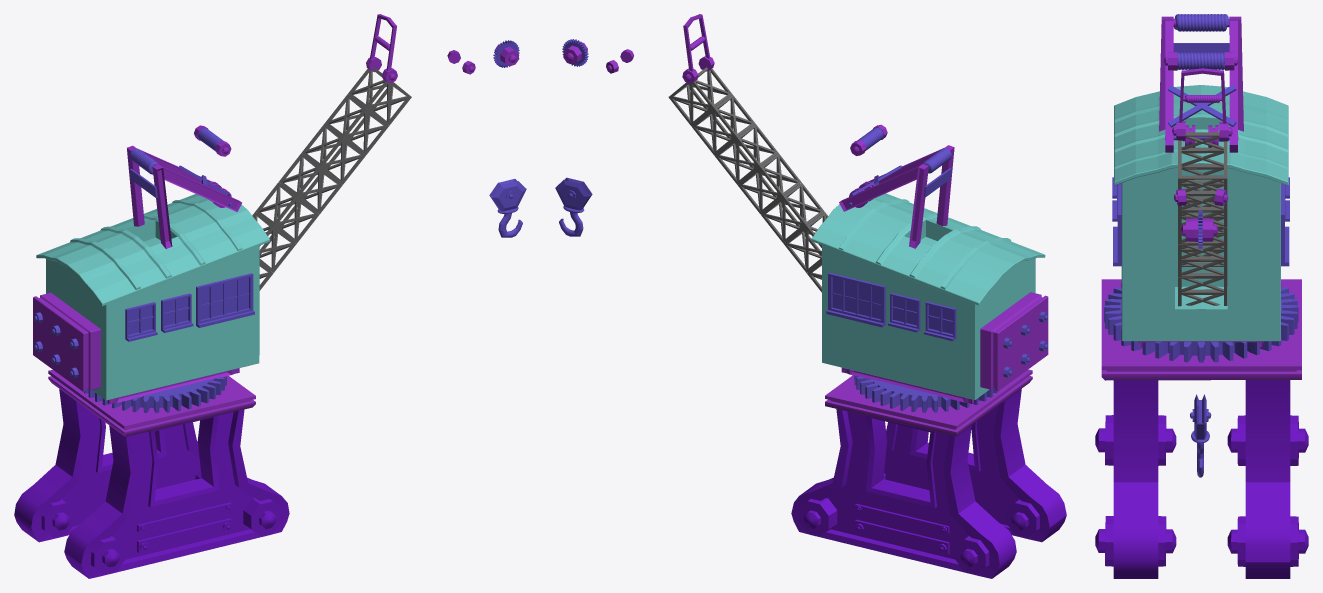
File: RileyCraneMTL.fbx
The picture shows the model from 3 angles, left to right: view 1: azimuth 30°, elevation 25°; view 2: azimuth 150°, elevation 25°; view 3: azimuth 270°, elevation 25°; orthographic projection. The views are drawn at different scales.
Parts seen in each view (by area): view 1: pCube52, pCube53, pCube69, pCube56, pCube59, pCube61, pGear3, pCube54, sideOfScaffolding6, sideOfScaffolding10, sideOfScaffolding7, sideOfScaffolding9 (+8 smaller); view 2: pCube52, pCube69, pCube53, pCube56, pCube59, pCube63, pGear3, pCube54, sideOfScaffolding7, sideOfScaffolding10, sideOfScaffolding9, sideOfScaffolding6 (+8 smaller); view 3: pCube52, pCube69, pCube53, pCube59, pGear3, sideOfScaffolding8, pCube54, sideOfScaffolding9, pCube55, pCube58, pHelix4, sideOfScaffolding6 (+16 smaller).
Part boxes in pixels (box(x1,y1,x2,y2)): pCube52: box(36, 194, 269, 400); pCube53: box(64, 409, 289, 578); pCube69: box(14, 389, 201, 542); pCube56: box(33, 292, 100, 391); pCube59: box(48, 369, 255, 436); pCube61: box(196, 273, 254, 327); pGear3: box(84, 376, 226, 413); pCube54: box(127, 145, 172, 249); sideOfScaffolding6: box(255, 182, 319, 243); sideOfScaffolding10: box(301, 123, 365, 184); sideOfScaffolding7: box(279, 153, 342, 213); sideOfScaffolding9: box(324, 94, 388, 155); pCube52: box(811, 193, 1045, 399); pCube69: box(791, 409, 1016, 578); pCube53: box(883, 388, 1066, 542); pCube56: box(980, 292, 1048, 391); pCube59: box(825, 369, 1032, 436); pCube63: box(826, 272, 885, 327); pGear3: box(854, 376, 997, 412); pCube54: box(909, 145, 954, 248); sideOfScaffolding7: box(737, 153, 801, 214); sideOfScaffolding10: box(715, 124, 778, 184); sideOfScaffolding9: box(691, 94, 755, 155); sideOfScaffolding6: box(761, 182, 824, 243); pCube52: box(1114, 85, 1288, 341); pCube69: box(1227, 380, 1308, 578); pCube53: box(1095, 380, 1176, 578); pCube59: box(1101, 279, 1301, 380); pGear3: box(1104, 283, 1298, 362); sideOfScaffolding8: box(1178, 132, 1227, 194); pCube54: box(1159, 16, 1243, 131); sideOfScaffolding9: box(1178, 152, 1227, 211); pCube55: box(1165, 20, 1173, 152); pCube58: box(1229, 20, 1237, 152); pHelix4: box(1174, 14, 1229, 31); sideOfScaffolding6: box(1178, 201, 1227, 260).
Size of the model in its own units: 9.68 by 8.84 by 2.85.
